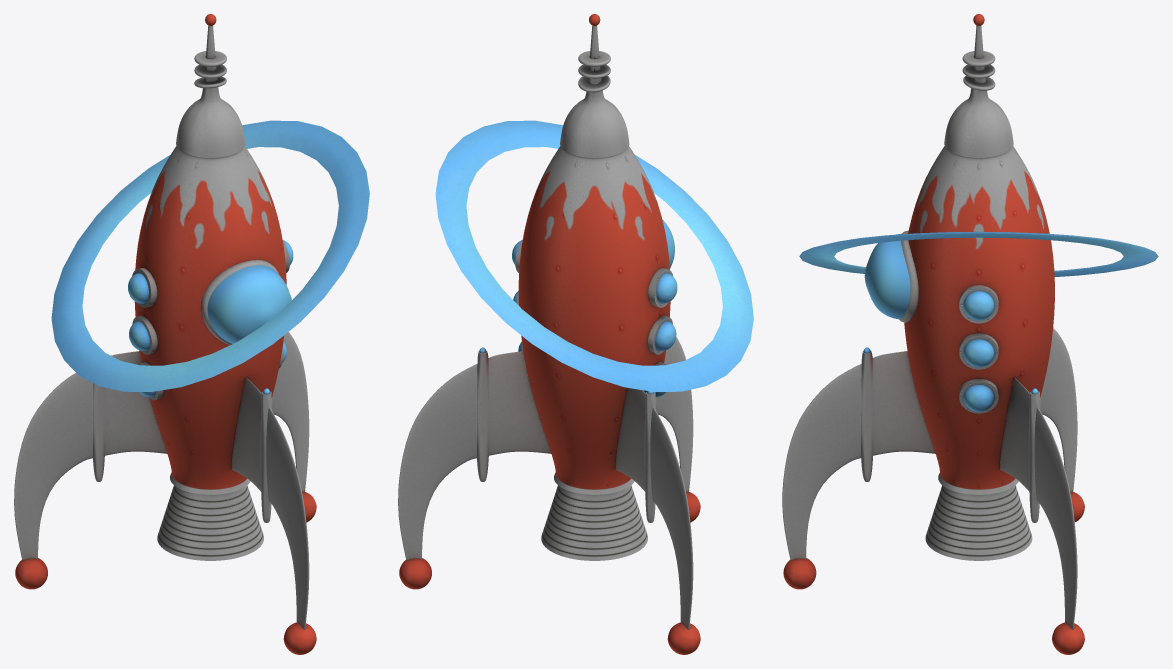
The model's file is rocket.glb.
3 views of the same model, side by side, from view 1: azimuth 30°, elevation 25°; view 2: azimuth 150°, elevation 25°; view 3: azimuth 270°, elevation 25° (orthographic).
Visible parts, largest first — view 1: 10475_Rocket_Ship_v1_L3, Circle; view 2: 10475_Rocket_Ship_v1_L3, Circle; view 3: 10475_Rocket_Ship_v1_L3, Circle.
Boxes of the visible parts, x1,y1,x2,y2 form: 10475_Rocket_Ship_v1_L3: (14, 14, 316, 654); Circle: (51, 120, 369, 391); 10475_Rocket_Ship_v1_L3: (398, 14, 700, 654); Circle: (435, 120, 753, 391); 10475_Rocket_Ship_v1_L3: (782, 14, 1084, 654); Circle: (799, 231, 1158, 276).
Size of the model in its own units: 22.55 by 41.62 by 24.75.
2 materials, 2 textured.
